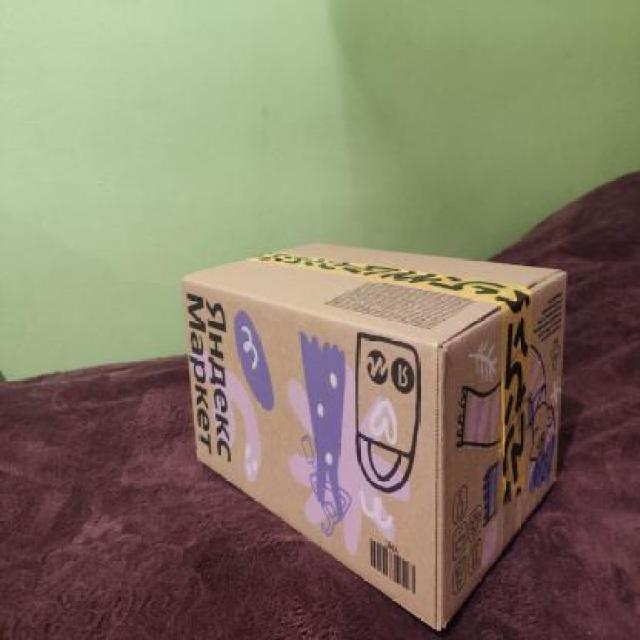box: (181, 238, 567, 630)
